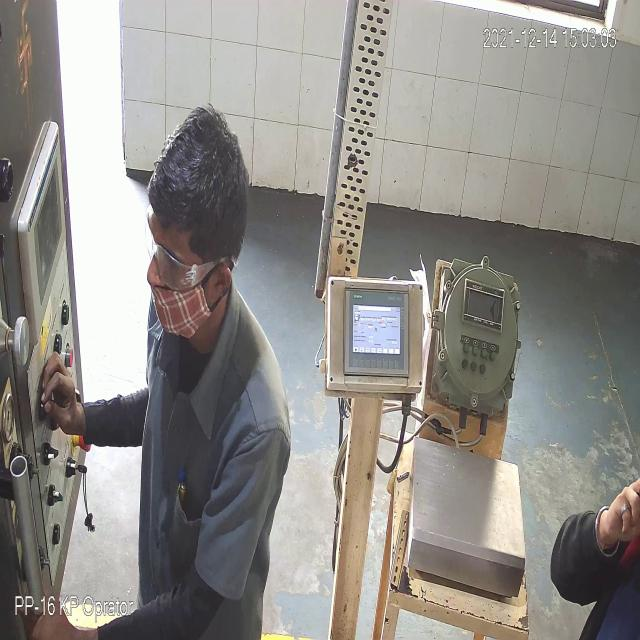glasses: (144, 220, 229, 294)
